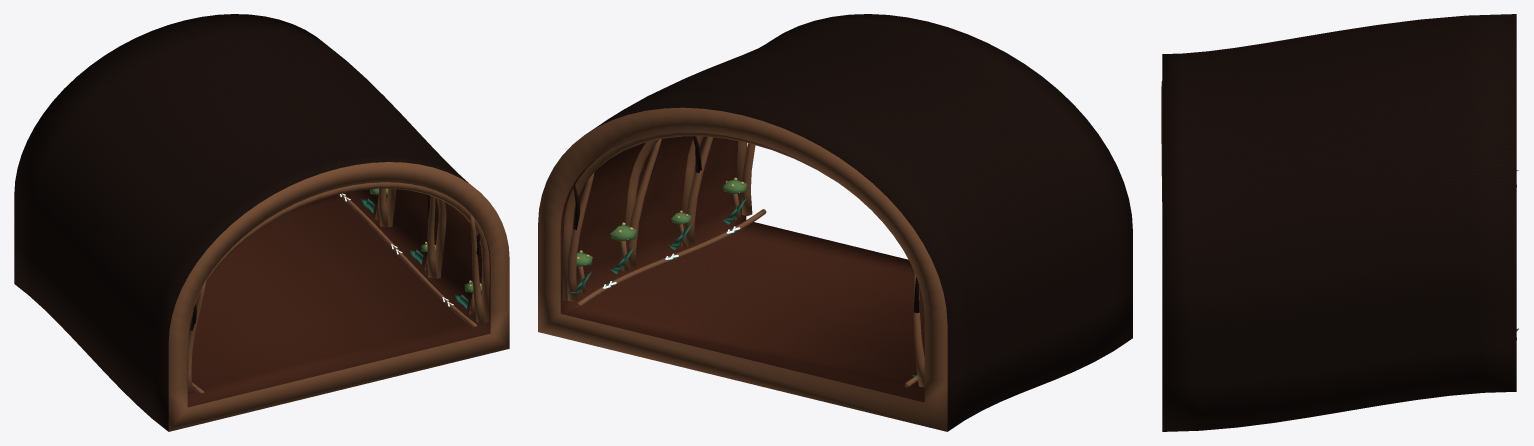
File: grade_up_lod1.glb
3 renders of one model, left to right at view 1: azimuth 30°, elevation 25°; view 2: azimuth 150°, elevation 25°; view 3: azimuth 270°, elevation 25°, orthographic. The views are drawn at different scales.
Parts seen in each view (by area): view 1: TunnelGeometry.001; view 2: TunnelGeometry.001; view 3: TunnelGeometry.001.
Boxes of the visible parts, left/top/right/bottom form: TunnelGeometry.001: left=14, top=14, right=509, bottom=431; TunnelGeometry.001: left=538, top=14, right=1132, bottom=431; TunnelGeometry.001: left=1161, top=14, right=1518, bottom=431.
Size of the model in its own units: 15.3 by 11.02 by 12.13.
7 materials, 2 textured.
